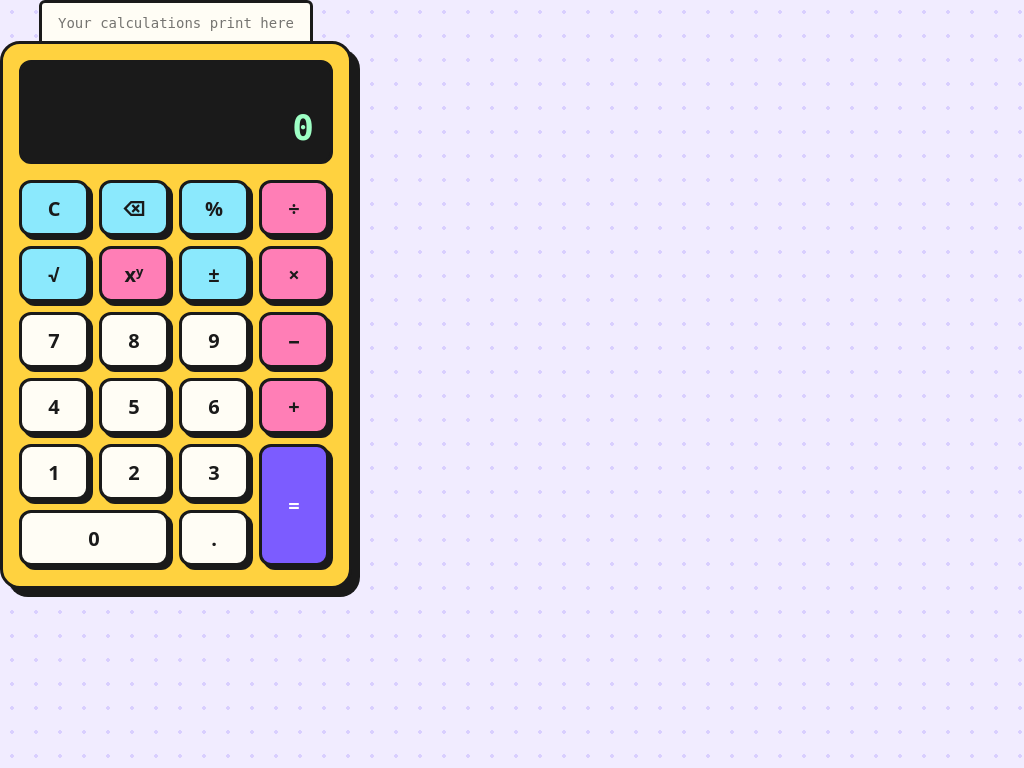
Calculator › multiplies through the backend
Click the button "6". click: point(214, 406)
box: 179,378 -> 249,434
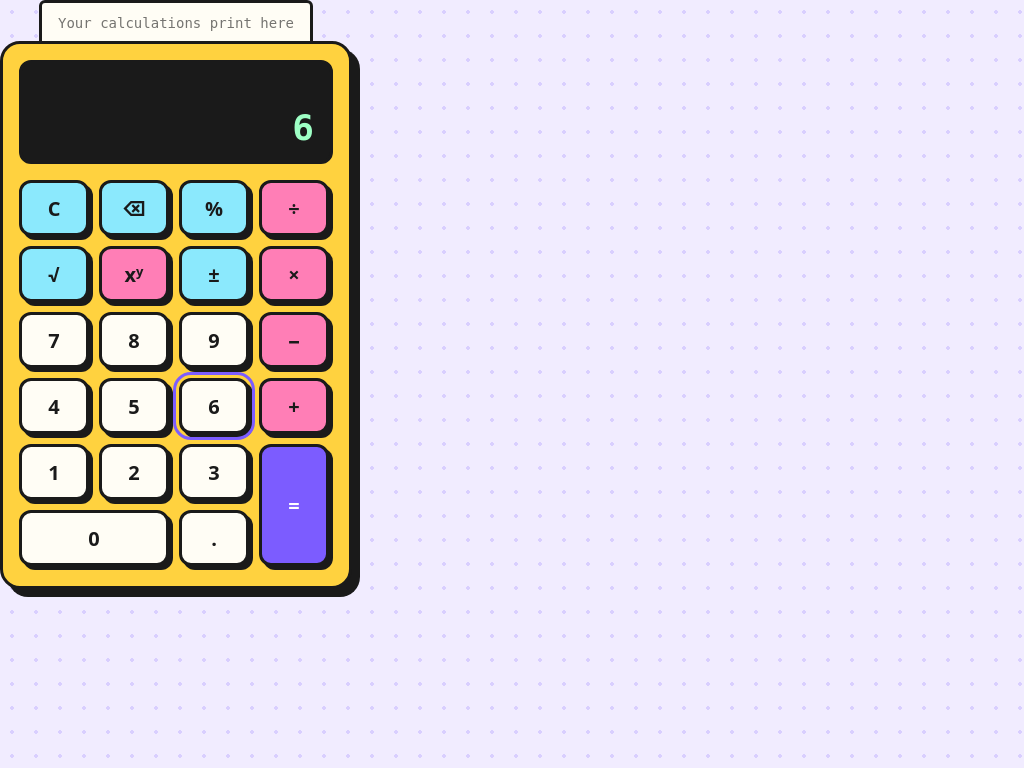
Click the button named "Multiply". click: point(294, 274)
box: 259,246 -> 329,302
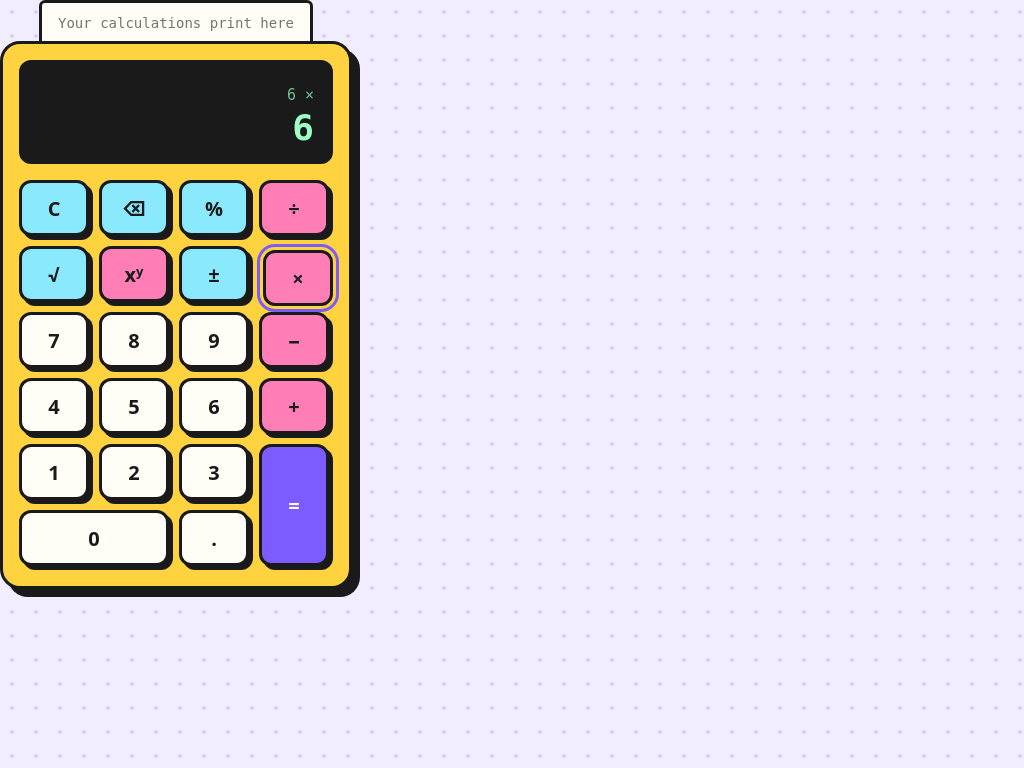
Click the button "7". click: point(54, 340)
box: 19,312 -> 89,368
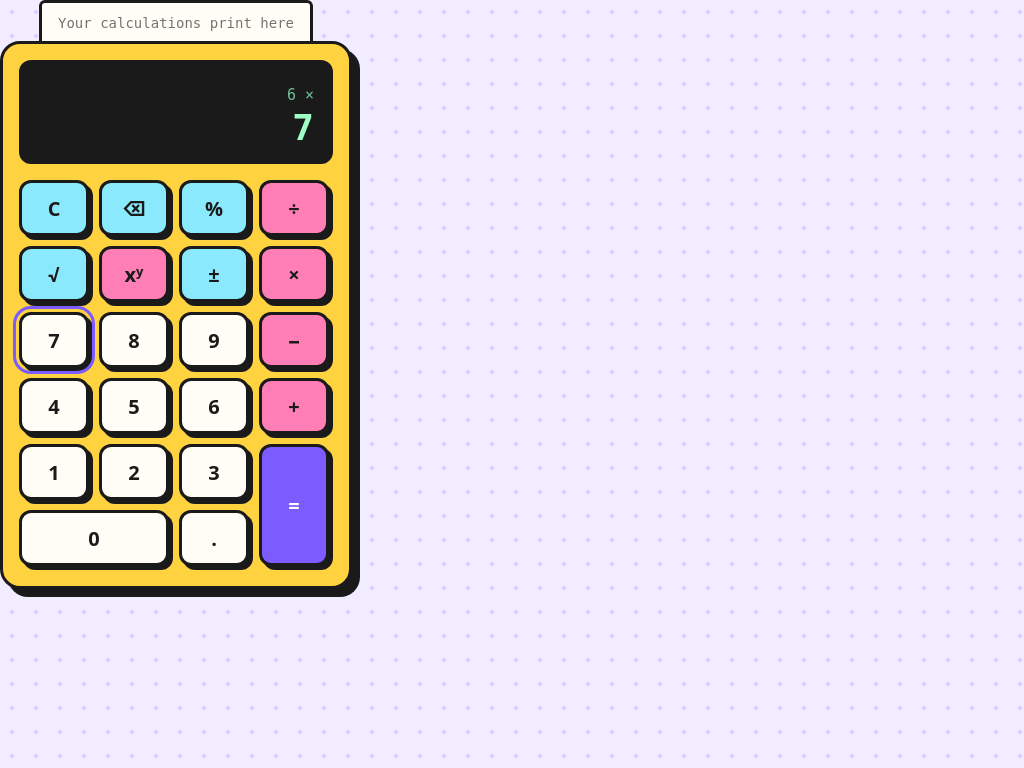
Click the button named "Equals". click: point(294, 505)
box: 259,444 -> 329,566
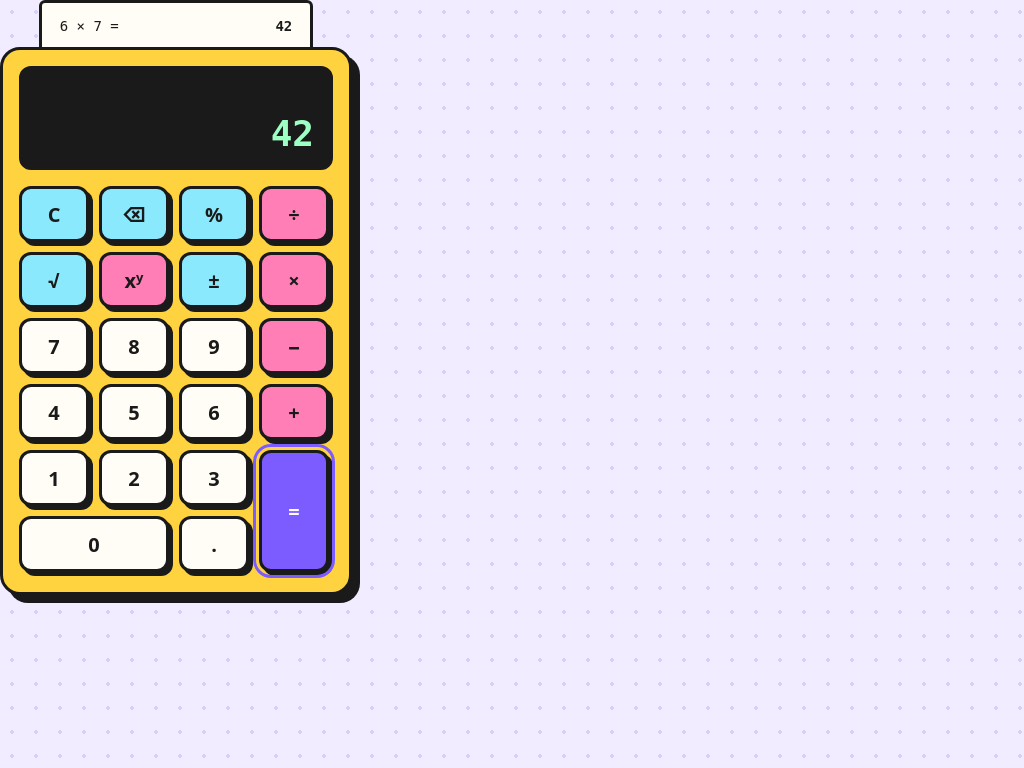
Now the text named "Result" reads "42", box 271,113 -> 314,154
